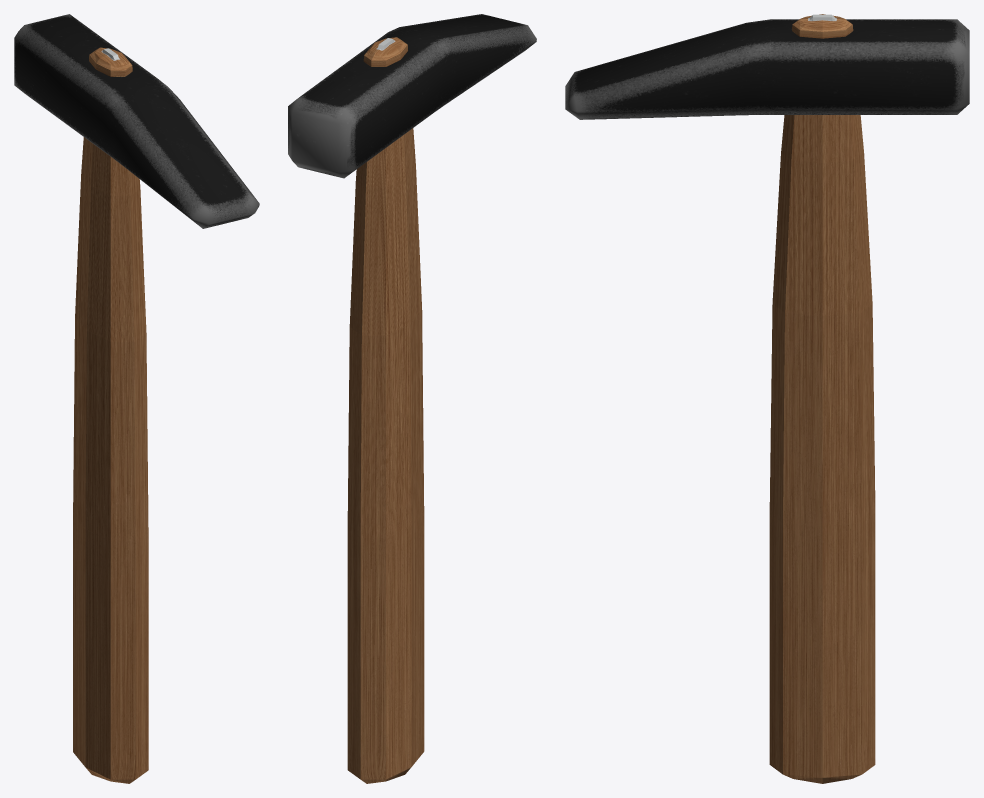
Rendered from hammer.gltf.
The picture shows the model from 3 angles, left to right: view 1: azimuth 30°, elevation 25°; view 2: azimuth 150°, elevation 25°; view 3: azimuth 270°, elevation 25°; orthographic projection. The views are drawn at different scales.
Parts seen in each view (by area): view 1: hamLo; view 2: hamLo; view 3: hamLo.
Part boxes in pixels (<box>): hamLo: <box>14,14,259,783</box>; hamLo: <box>288,14,536,783</box>; hamLo: <box>565,14,969,783</box>.
Size of the model in its own units: 2 by 21.12 by 10.16.
Materials: 1 (1 with a texture image).
